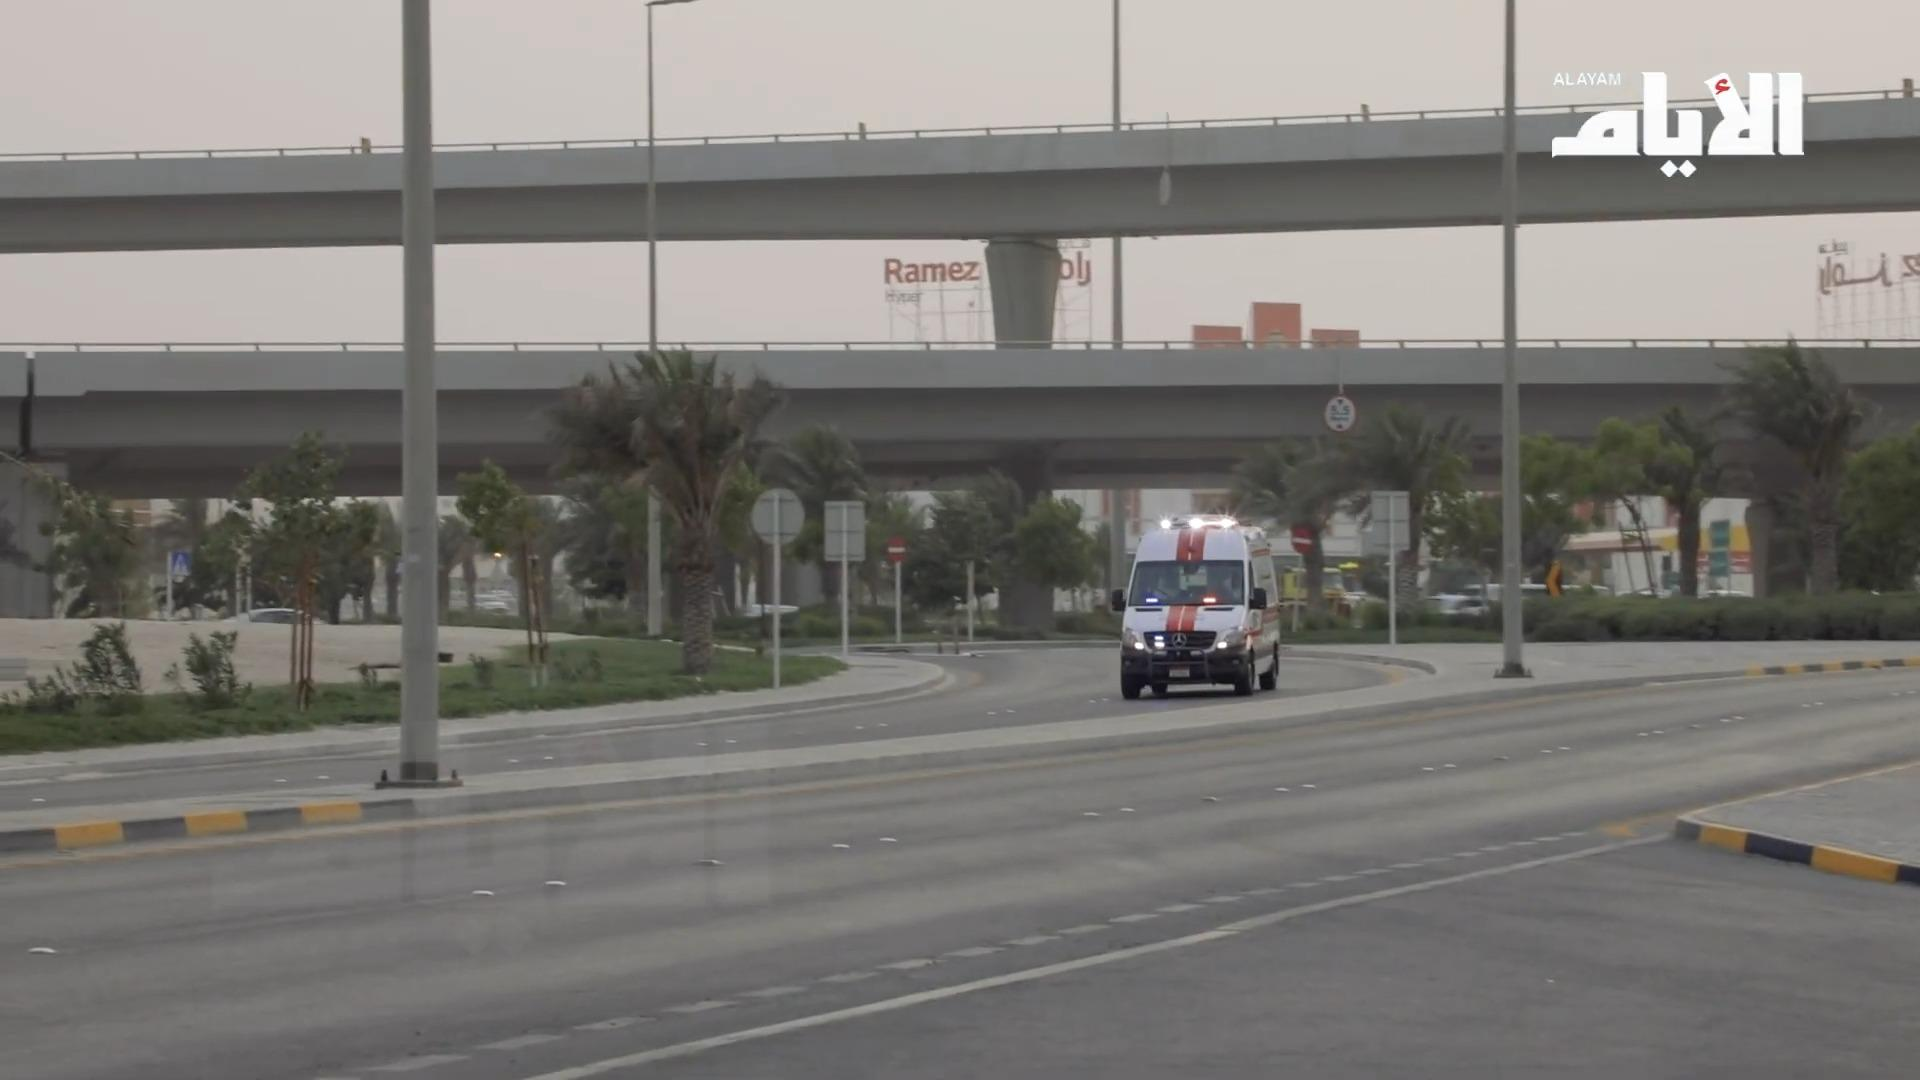ambulance_on: (1112, 516, 1280, 698)
